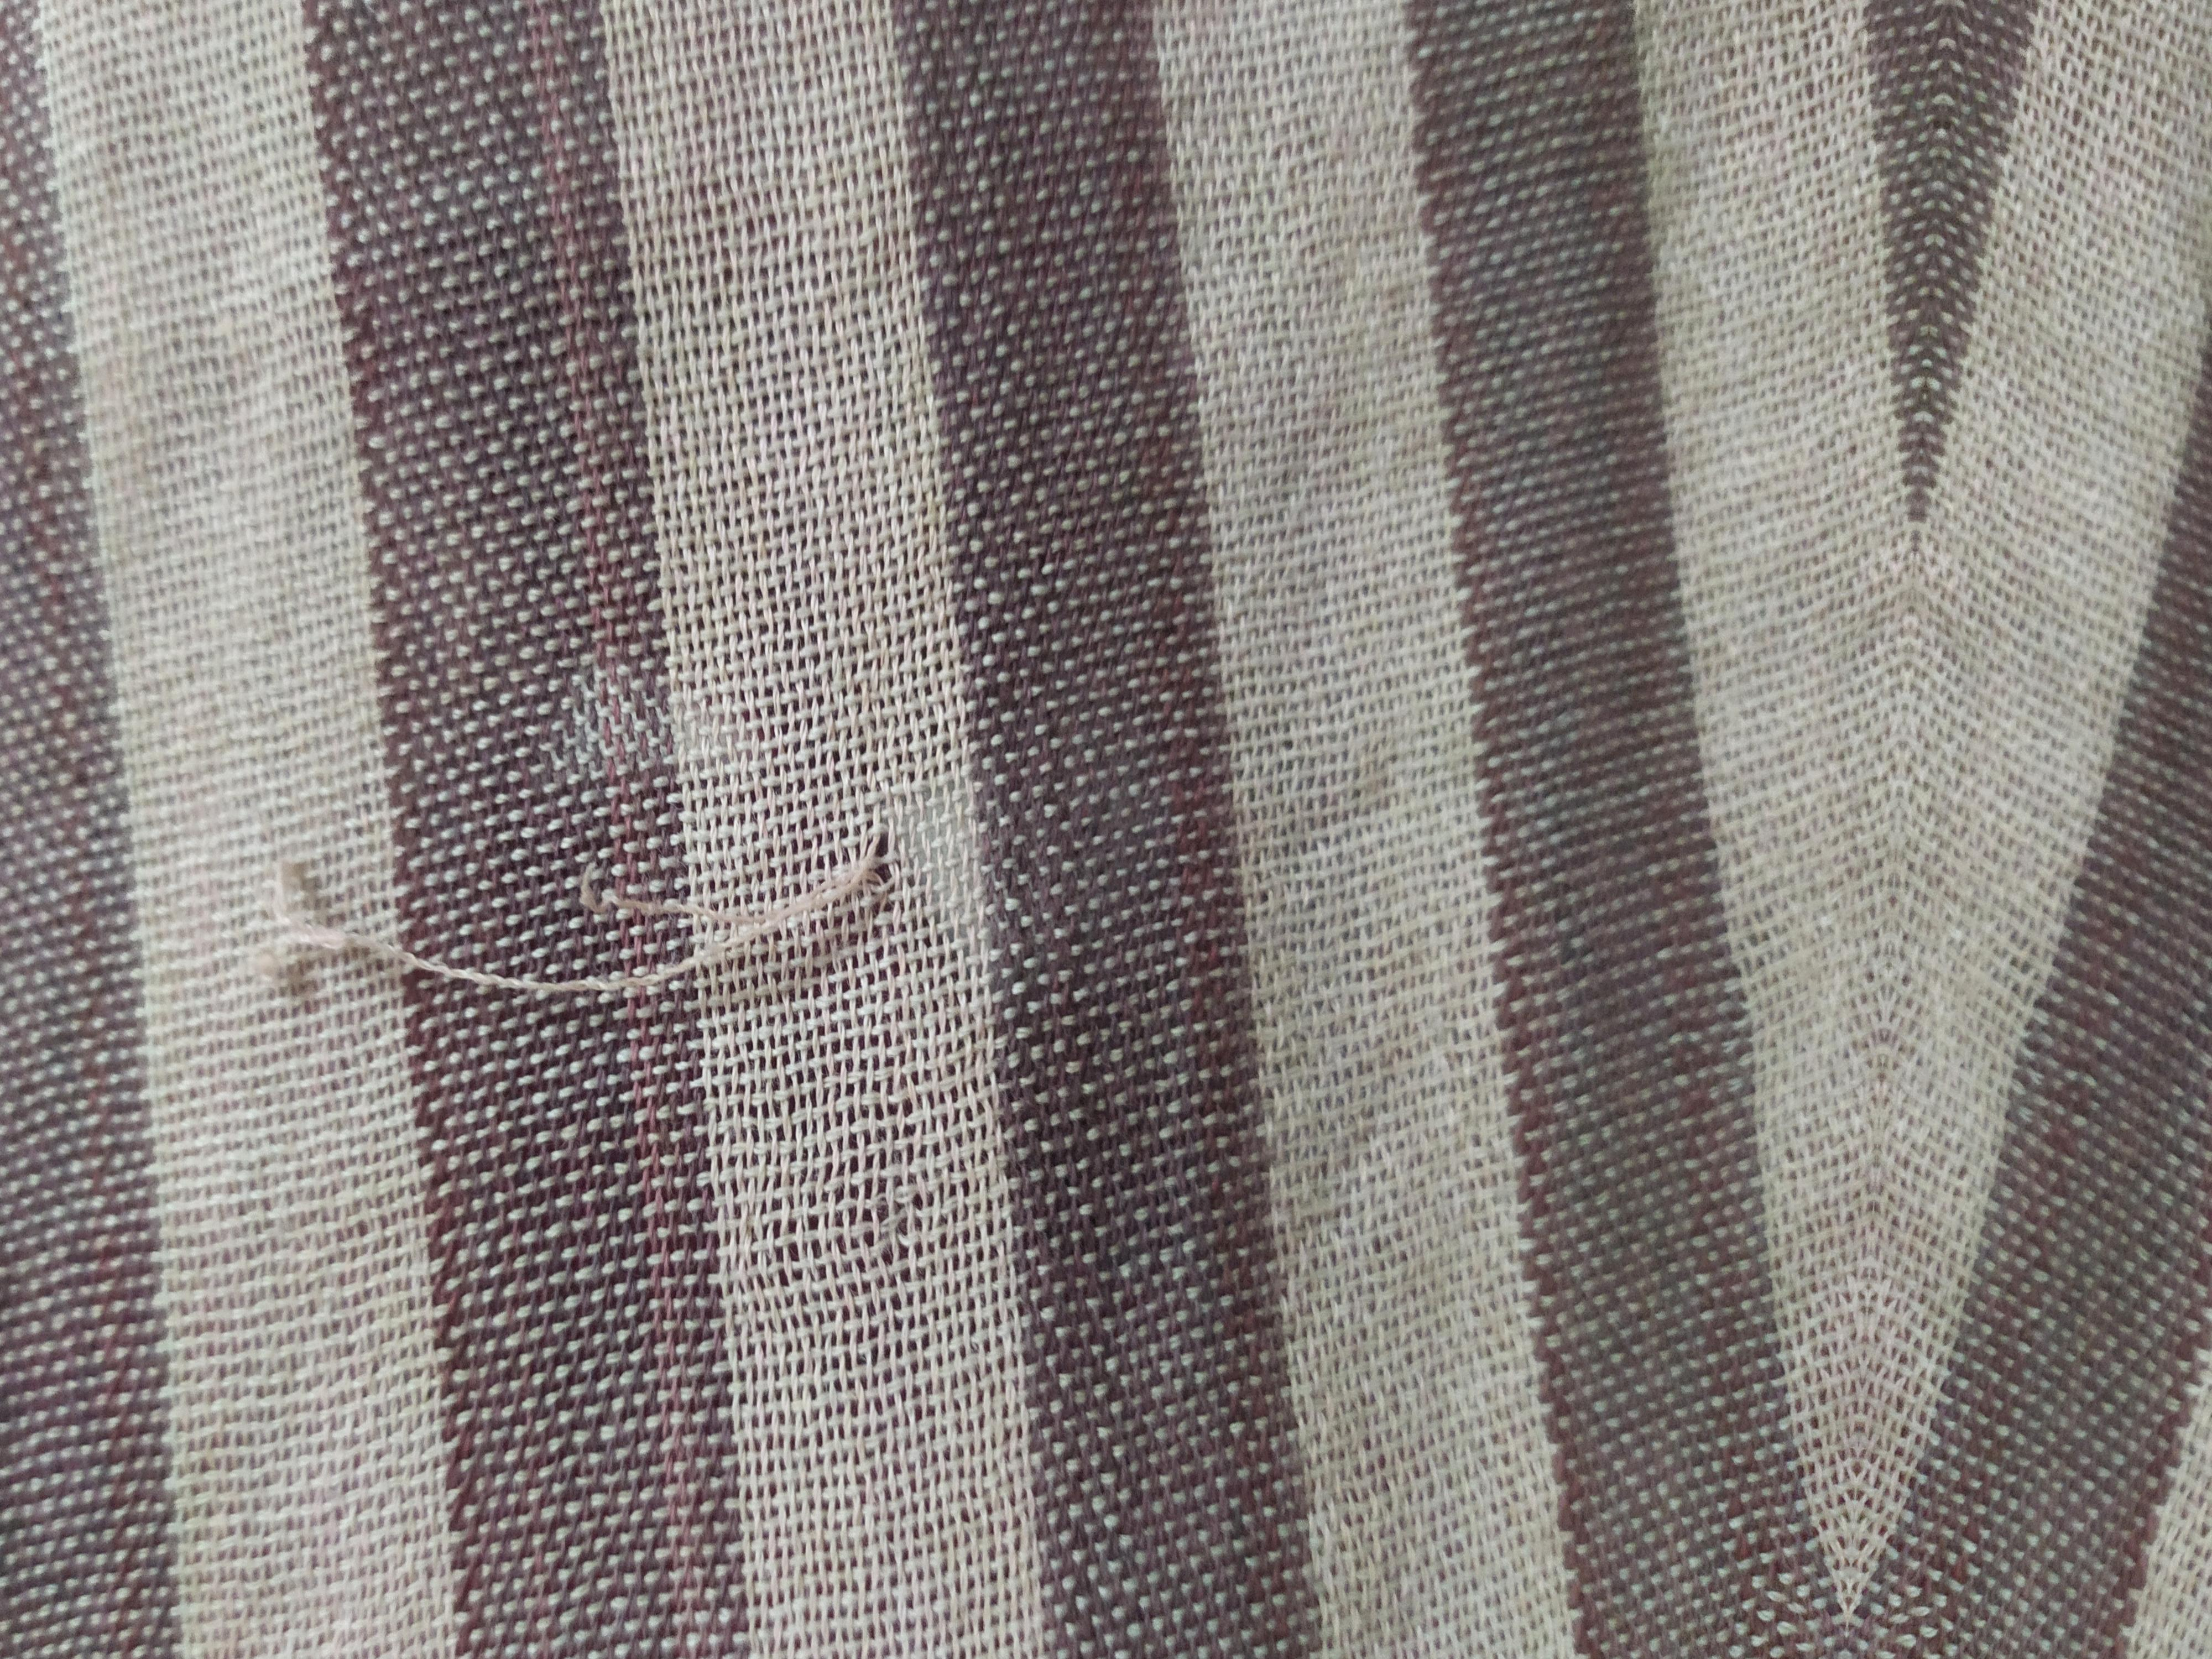snag: (240, 821, 934, 1030)
